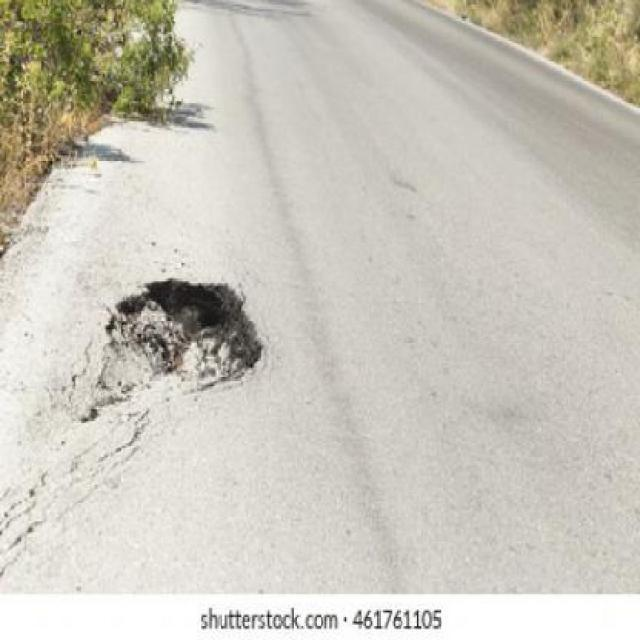Buraco: (94, 276, 269, 400)
